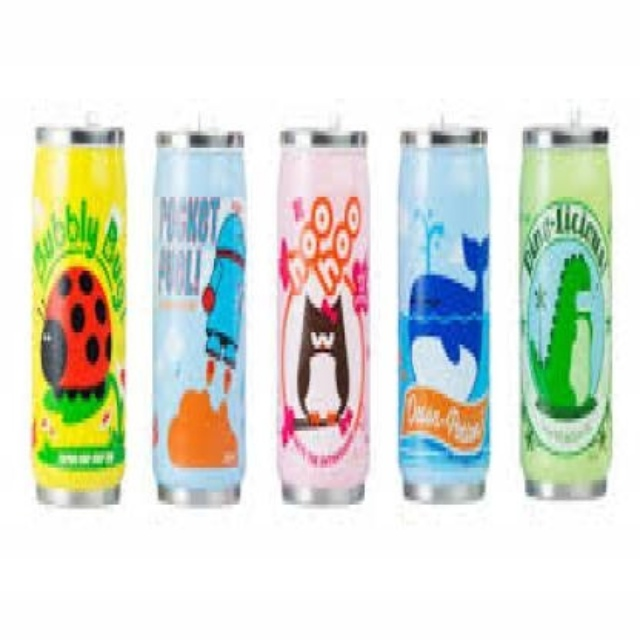trash: (32, 126, 125, 505), (154, 131, 245, 503), (398, 126, 488, 502), (278, 129, 368, 503), (520, 126, 609, 497)
